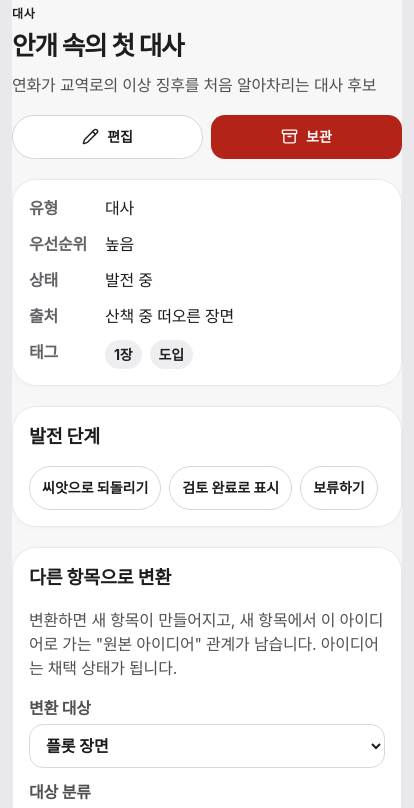
Task 12 Idea pages › moves an idea through allowed development states
Click the button "검토 완료로 표시". click: [231, 488]
box: [169,466,292,510]
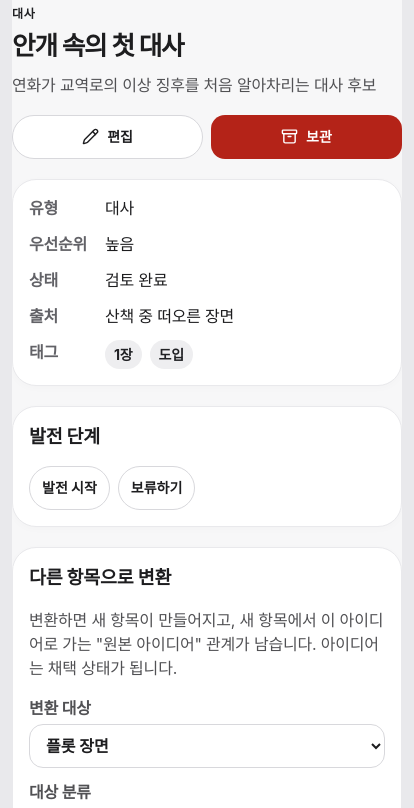
Expected: the text "검토 완료" is shown, [105,270,167,290]
Click the button "보류하기". click: [157, 488]
box: [118,466,195,510]
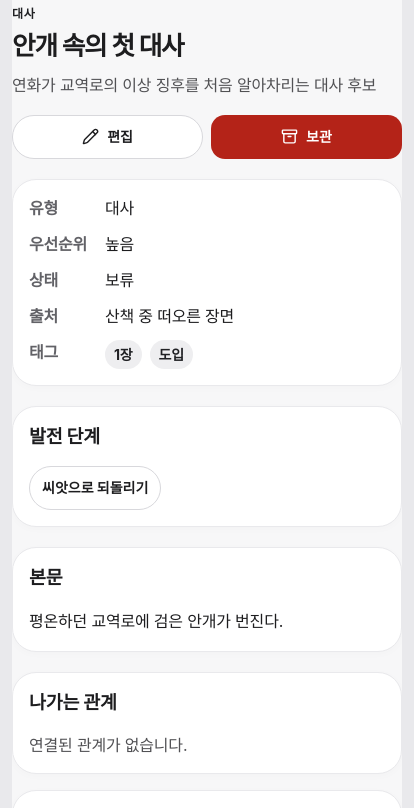
Expected: the heading "다른 항목으로 변환" is gone
Expected: the button "씨앗으로 되돌리기" is shown, [29,466,161,510]
